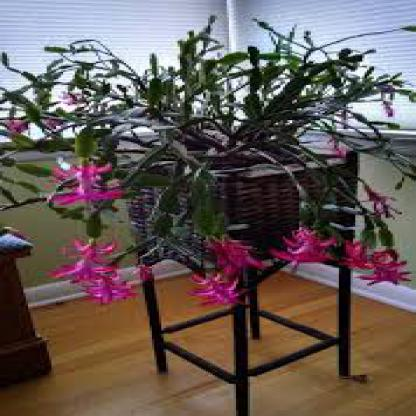Aglonema: (10, 40, 416, 238)
